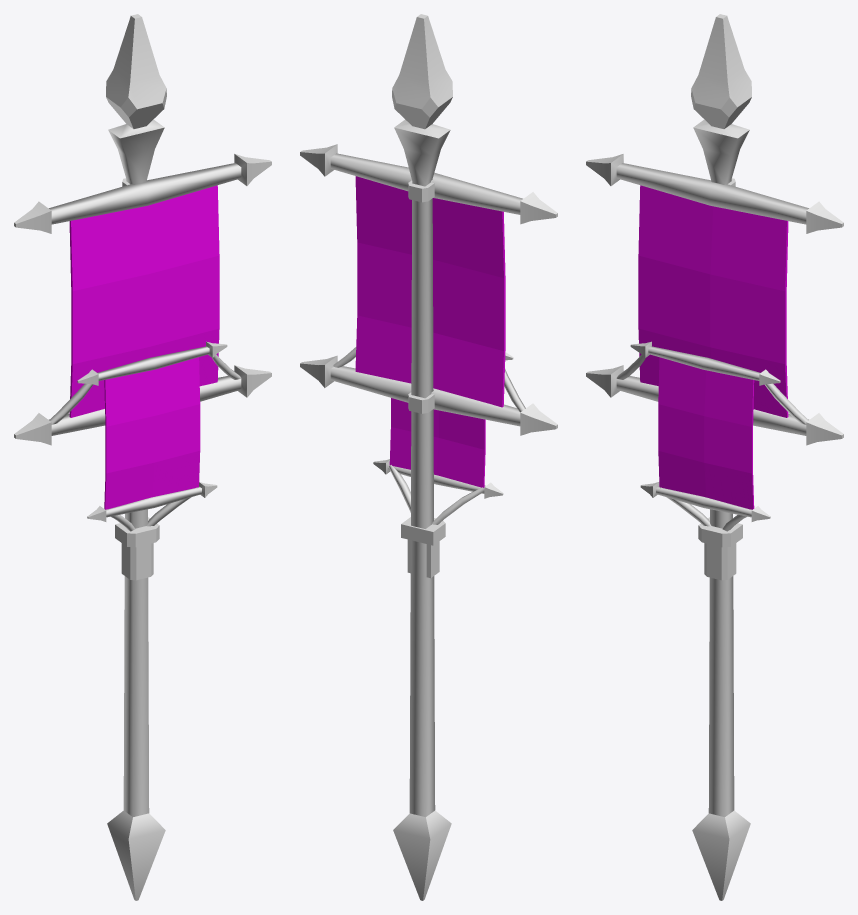
File: banner.glb
The picture shows the model from 3 angles, left to right: view 1: azimuth 30°, elevation 25°; view 2: azimuth 150°, elevation 25°; view 3: azimuth 330°, elevation 25°; orthographic projection.
Visible parts, largest first — view 1: Cube.004, Cube, Cube.008, Cube.001, Cube.002, Cube.003, Cube.007, Cube.012, Cube.011, Cube.009, Cube.010; view 2: Cube.004, Cube, Cube.001, Cube.008, Cube.002, Cube.007, Cube.011, Cube.010, Cube.012, Cube.009; view 3: Cube.004, Cube, Cube.008, Cube.001, Cube.002, Cube.003, Cube.007, Cube.012, Cube.011, Cube.009, Cube.010.
Boxes of the visible parts, x1,y1,x2,y2 form: Cube.004: [69, 185, 219, 417]; Cube: [106, 14, 166, 900]; Cube.008: [104, 357, 200, 509]; Cube.001: [14, 154, 271, 233]; Cube.002: [14, 365, 271, 445]; Cube.003: [77, 341, 227, 385]; Cube.007: [87, 482, 217, 521]; Cube.012: [121, 543, 153, 580]; Cube.011: [115, 517, 159, 547]; Cube.009: [49, 354, 241, 424]; Cube.010: [106, 487, 197, 531]; Cube.004: [355, 176, 505, 407]; Cube: [392, 14, 452, 900]; Cube.001: [300, 144, 557, 224]; Cube.008: [389, 398, 485, 487]; Cube.002: [300, 355, 557, 435]; Cube.007: [373, 459, 503, 498]; Cube.011: [401, 517, 445, 545]; Cube.010: [388, 465, 484, 524]; Cube.012: [407, 539, 439, 578]; Cube.009: [333, 347, 525, 412]; Cube.004: [638, 185, 788, 417]; Cube: [691, 14, 751, 900]; Cube.008: [658, 357, 754, 509]; Cube.001: [586, 154, 843, 233]; Cube.002: [586, 365, 843, 445]; Cube.003: [630, 341, 780, 385]; Cube.007: [640, 482, 770, 521]; Cube.012: [704, 543, 736, 580]; Cube.011: [698, 517, 742, 547]; Cube.009: [616, 354, 808, 424]; Cube.010: [660, 487, 751, 531].
Bounding box in the file's own units: 0.6333 × 2.09 × 0.14.
